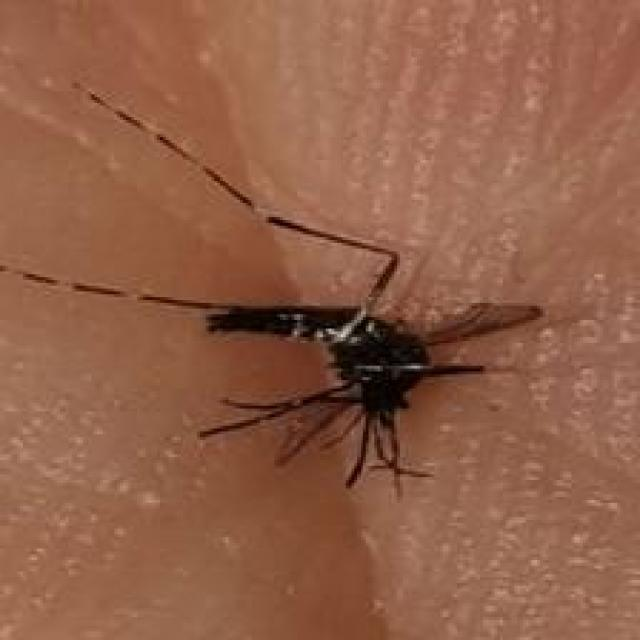Aedes albopictus: (2, 81, 547, 498)
